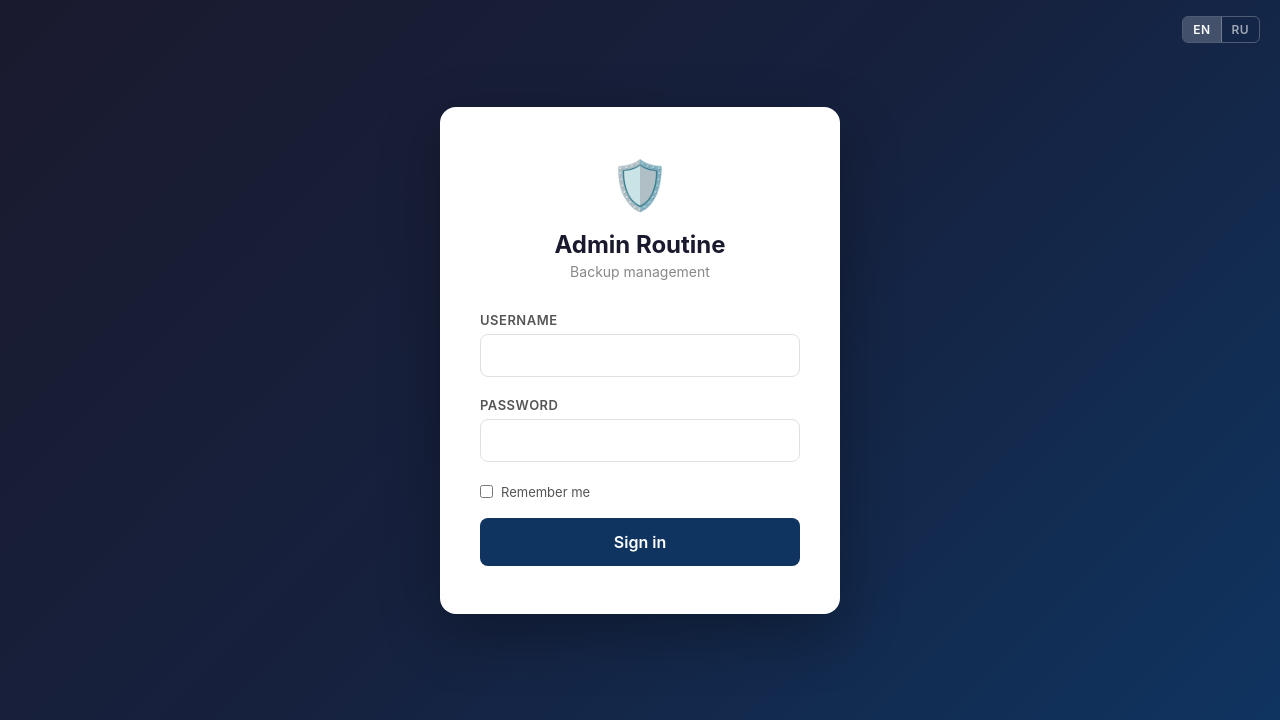
LoginPage › disables button while submitting
Type "admin1" into the field labelled "Username" at (640, 355), box 480,334 -> 800,376
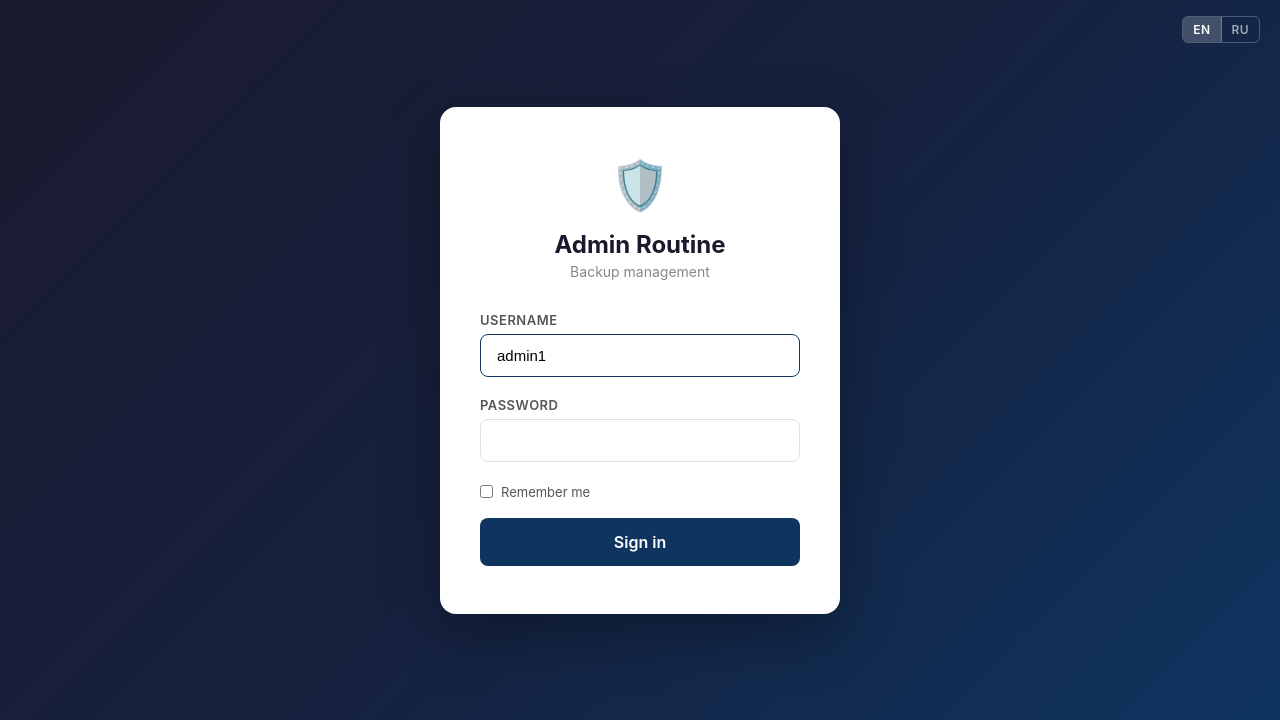
Type "pass1" into the password field labelled "Password" at (640, 440), box 480,418 -> 800,462
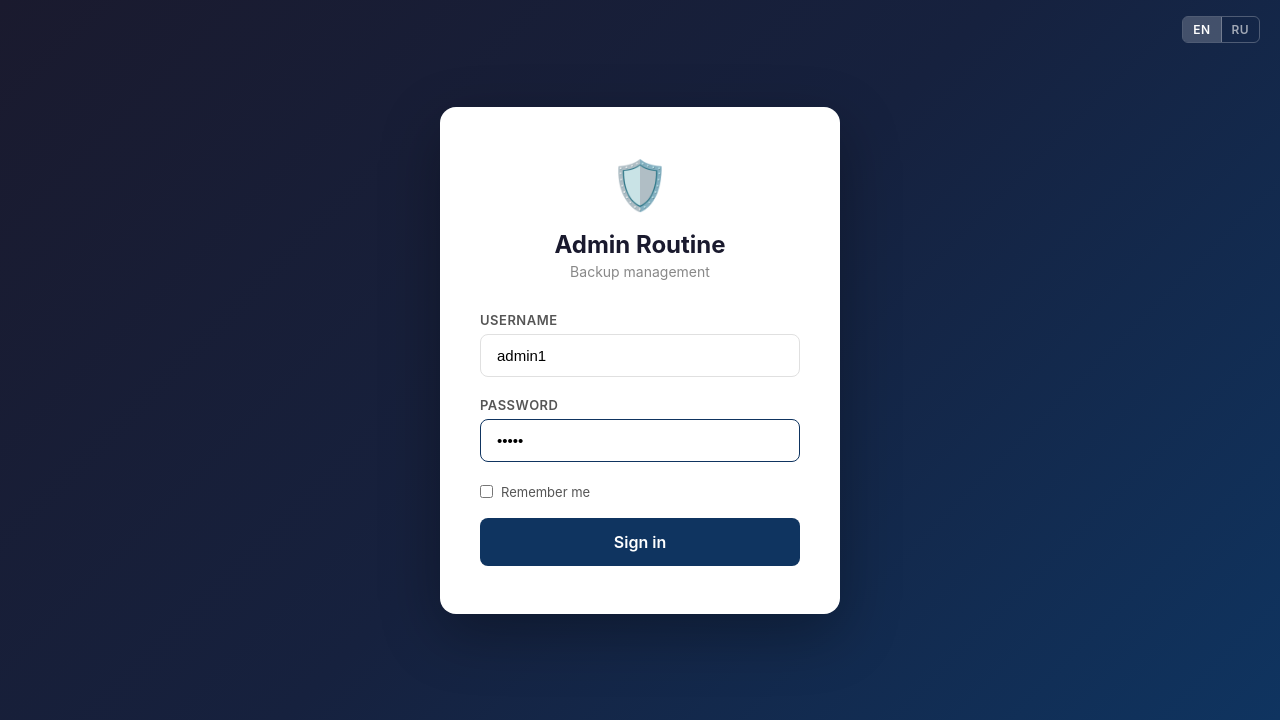
Click the button "Sign in" at (640, 542), box 480,518 -> 800,566
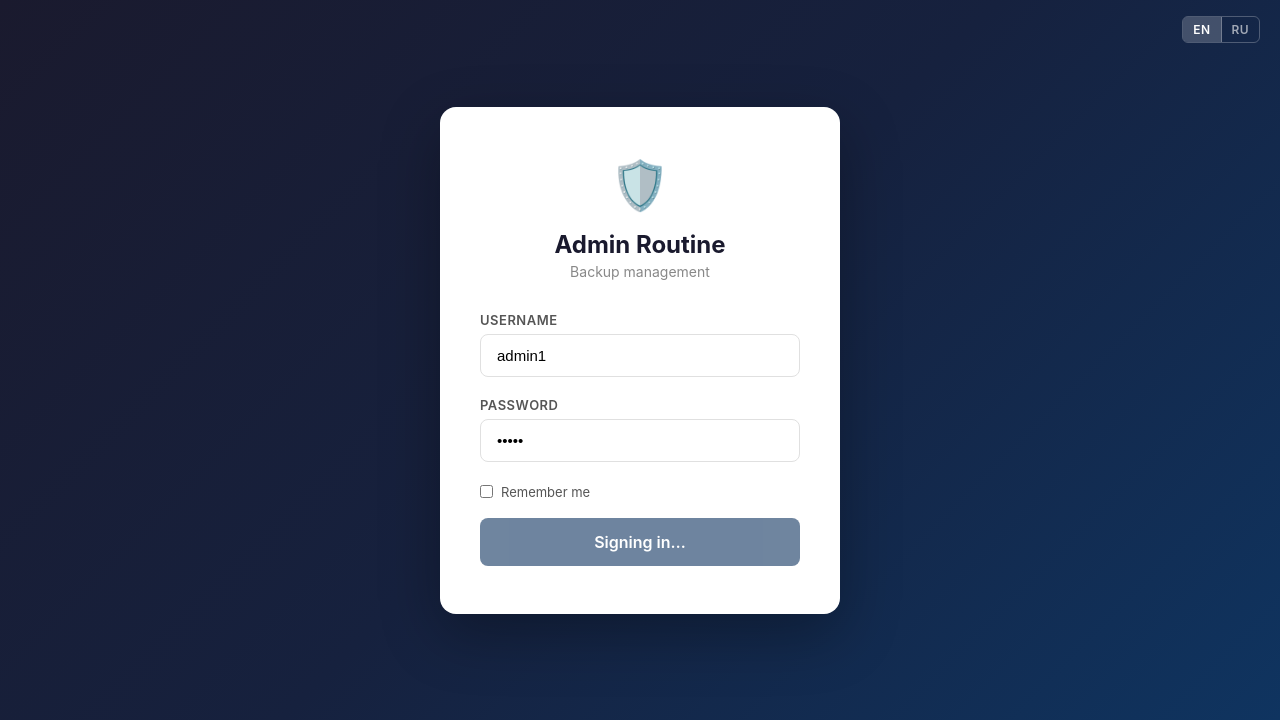
Result: the button "Signing in…" is disabled at 480,518 -> 800,566
